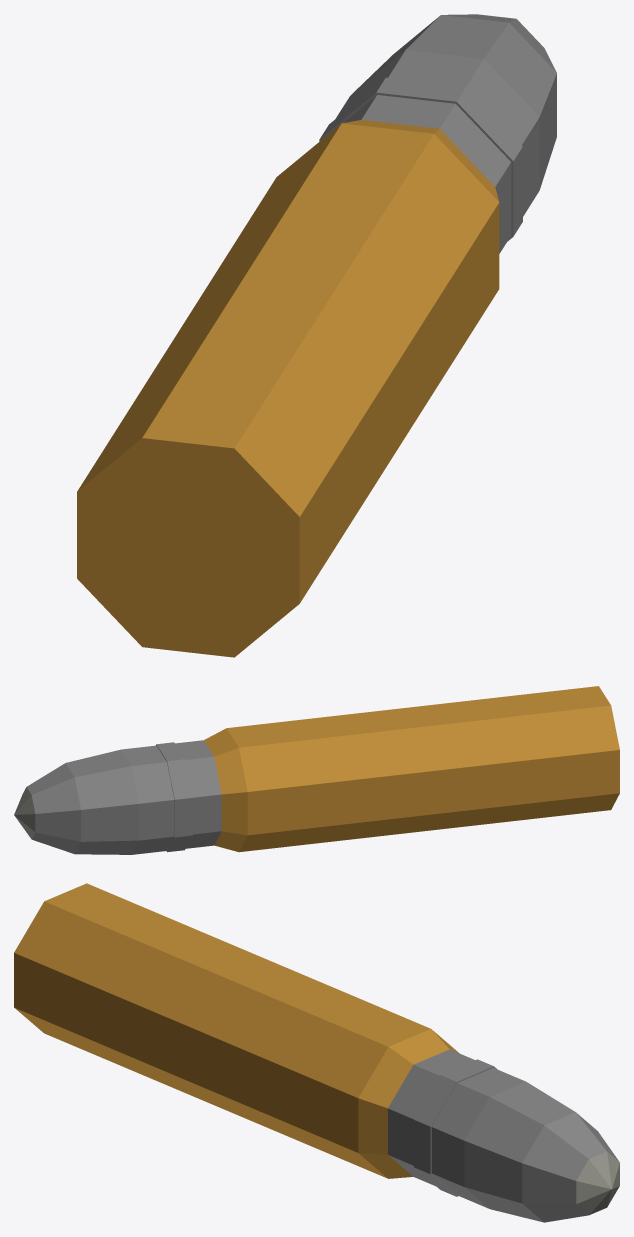
Rendered from ce_ammo_heavy_apcr_a.obj.
The picture shows the model from 3 angles, top to bottom: view 1: azimuth 30°, elevation 25°; view 2: azimuth 150°, elevation 25°; view 3: azimuth 270°, elevation 25°; orthographic projection. The views are drawn at different scales.
Parts seen in each view (by area): view 1: ce_ammo_heavy_apcr_a_0, ce_ammo_heavy_apcr_a_5, ce_ammo_heavy_apcr_a_4, ce_ammo_heavy_apcr_a_2, ce_ammo_heavy_apcr_a_3, ce_ammo_heavy_apcr_a_1; view 2: ce_ammo_heavy_apcr_a_0, ce_ammo_heavy_apcr_a_5, ce_ammo_heavy_apcr_a_4, ce_ammo_heavy_apcr_a_6, ce_ammo_heavy_apcr_a_1, ce_ammo_heavy_apcr_a_2, ce_ammo_heavy_apcr_a_3, ce_ammo_heavy_apcr_a_7; view 3: ce_ammo_heavy_apcr_a_0, ce_ammo_heavy_apcr_a_5, ce_ammo_heavy_apcr_a_6, ce_ammo_heavy_apcr_a_1, ce_ammo_heavy_apcr_a_4, ce_ammo_heavy_apcr_a_2, ce_ammo_heavy_apcr_a_3, ce_ammo_heavy_apcr_a_7.
Part boxes in pixels (box(x1,y1,x2,y2)): ce_ammo_heavy_apcr_a_0: box(77, 123, 499, 657); ce_ammo_heavy_apcr_a_5: box(352, 15, 556, 189); ce_ammo_heavy_apcr_a_4: box(335, 50, 539, 216); ce_ammo_heavy_apcr_a_2: box(343, 95, 511, 253); ce_ammo_heavy_apcr_a_3: box(319, 77, 522, 240); ce_ammo_heavy_apcr_a_1: box(343, 120, 498, 201); ce_ammo_heavy_apcr_a_0: box(226, 686, 619, 852); ce_ammo_heavy_apcr_a_5: box(66, 749, 138, 854); ce_ammo_heavy_apcr_a_4: box(121, 745, 174, 854); ce_ammo_heavy_apcr_a_6: box(27, 763, 80, 853); ce_ammo_heavy_apcr_a_1: box(204, 728, 247, 851); ce_ammo_heavy_apcr_a_2: box(175, 740, 221, 848); ce_ammo_heavy_apcr_a_3: box(156, 742, 192, 852); ce_ammo_heavy_apcr_a_7: box(14, 787, 35, 839); ce_ammo_heavy_apcr_a_0: box(14, 883, 430, 1178); ce_ammo_heavy_apcr_a_5: box(464, 1081, 575, 1222); ce_ammo_heavy_apcr_a_6: box(522, 1112, 619, 1222); ce_ammo_heavy_apcr_a_1: box(358, 1029, 459, 1178); ce_ammo_heavy_apcr_a_4: box(431, 1068, 525, 1208); ce_ammo_heavy_apcr_a_2: box(388, 1049, 474, 1186); ce_ammo_heavy_apcr_a_3: box(414, 1059, 497, 1196); ce_ammo_heavy_apcr_a_7: box(576, 1151, 619, 1215).
Size of the model in its own units: 0.7684 by 0.1848 by 0.7684.
